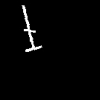double_crochet: (23, 6, 41, 51)
